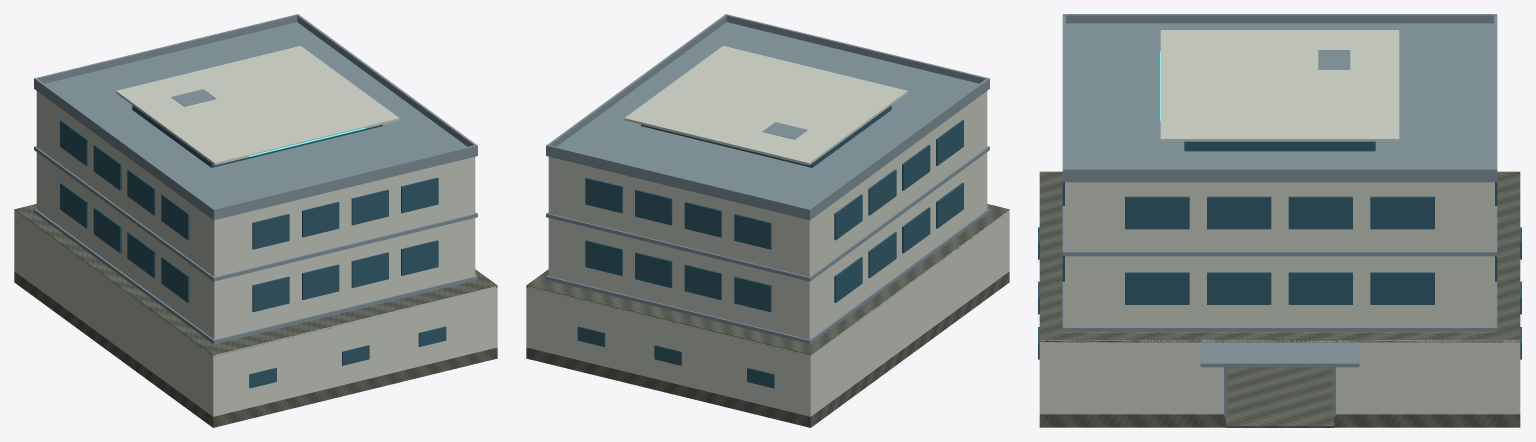
The model's file is Karden_TransitHall.glb.
3 renders of one model, left to right at view 1: azimuth 30°, elevation 25°; view 2: azimuth 150°, elevation 25°; view 3: azimuth 270°, elevation 25°, orthographic. The views are drawn at different scales.
Parts seen in each view (by area): view 1: Karden_TransitHall_Roof, Karden_TransitHall_GroundShell, Karden_TransitHall_CivicLantern, Karden_TransitHall_Upper1_Shell_F1, Karden_TransitHall_Upper1_Shell_F2, Karden_TransitHall_TerraceDeck_1, Karden_TransitHall_Foundation, Karden_TransitHall_Upper1_SideGlazing_F1, Karden_TransitHall_Upper1_SideGlazing_F2, Karden_TransitHall_Upper1_EndGlazing_F1, Karden_TransitHall_Upper1_EndGlazing_F2, Karden_TransitHall_Upper1_SlabBand_F2 (+3 smaller); view 2: Karden_TransitHall_Roof, Karden_TransitHall_GroundShell, Karden_TransitHall_CivicLantern, Karden_TransitHall_Upper1_Shell_F1, Karden_TransitHall_Upper1_Shell_F2, Karden_TransitHall_TerraceDeck_1, Karden_TransitHall_Foundation, Karden_TransitHall_Upper1_SideGlazing_F1, Karden_TransitHall_Upper1_SideGlazing_F2, Karden_TransitHall_Upper1_EndGlazing_F1, Karden_TransitHall_Upper1_EndGlazing_F2, Karden_TransitHall_Upper1_SlabBand_F2 (+3 smaller); view 3: Karden_TransitHall_Roof, Karden_TransitHall_CivicLantern, Karden_TransitHall_GroundShell, Karden_TransitHall_Upper1_Shell_F2, Karden_TransitHall_Upper1_Shell_F1, Karden_TransitHall_TerraceDeck_1, Karden_TransitHall_Foundation, Karden_TransitHall_Upper1_EndGlazing_F2, Karden_TransitHall_Upper1_EndGlazing_F1, Karden_TransitHall_PortalFixture, Karden_TransitHall_Upper1_SlabBand_F2, Karden_TransitHall_Upper1_SlabBand_F1 (+2 smaller).
Boxes of the visible parts, bbox=[...] form: Karden_TransitHall_Roof: bbox=[34, 14, 477, 220]; Karden_TransitHall_GroundShell: bbox=[14, 210, 497, 416]; Karden_TransitHall_CivicLantern: bbox=[116, 46, 399, 167]; Karden_TransitHall_Upper1_Shell_F1: bbox=[36, 152, 475, 341]; Karden_TransitHall_Upper1_Shell_F2: bbox=[36, 91, 475, 281]; Karden_TransitHall_TerraceDeck_1: bbox=[14, 204, 497, 356]; Karden_TransitHall_Foundation: bbox=[14, 271, 497, 427]; Karden_TransitHall_Upper1_SideGlazing_F1: bbox=[252, 240, 438, 312]; Karden_TransitHall_Upper1_SideGlazing_F2: bbox=[252, 177, 438, 249]; Karden_TransitHall_Upper1_EndGlazing_F1: bbox=[60, 182, 189, 302]; Karden_TransitHall_Upper1_EndGlazing_F2: bbox=[60, 120, 189, 240]; Karden_TransitHall_Upper1_SlabBand_F2: bbox=[34, 146, 477, 281]; Karden_TransitHall_Roof: bbox=[546, 14, 989, 220]; Karden_TransitHall_GroundShell: bbox=[526, 210, 1009, 416]; Karden_TransitHall_CivicLantern: bbox=[624, 46, 907, 167]; Karden_TransitHall_Upper1_Shell_F1: bbox=[548, 152, 987, 341]; Karden_TransitHall_Upper1_Shell_F2: bbox=[548, 91, 987, 281]; Karden_TransitHall_TerraceDeck_1: bbox=[526, 204, 1009, 355]; Karden_TransitHall_Foundation: bbox=[526, 271, 1009, 427]; Karden_TransitHall_Upper1_SideGlazing_F1: bbox=[585, 240, 771, 312]; Karden_TransitHall_Upper1_SideGlazing_F2: bbox=[585, 177, 771, 249]; Karden_TransitHall_Upper1_EndGlazing_F1: bbox=[834, 182, 963, 302]; Karden_TransitHall_Upper1_EndGlazing_F2: bbox=[834, 120, 963, 240]; Karden_TransitHall_Upper1_SlabBand_F2: bbox=[546, 146, 989, 281]; Karden_TransitHall_Roof: bbox=[1062, 14, 1497, 182]; Karden_TransitHall_CivicLantern: bbox=[1160, 30, 1399, 151]; Karden_TransitHall_GroundShell: bbox=[1039, 339, 1520, 414]; Karden_TransitHall_Upper1_Shell_F2: bbox=[1065, 182, 1494, 257]; Karden_TransitHall_Upper1_Shell_F1: bbox=[1065, 257, 1494, 332]; Karden_TransitHall_TerraceDeck_1: bbox=[1039, 171, 1520, 342]; Karden_TransitHall_Foundation: bbox=[1039, 367, 1520, 427]; Karden_TransitHall_Upper1_EndGlazing_F2: bbox=[1125, 196, 1434, 229]; Karden_TransitHall_Upper1_EndGlazing_F1: bbox=[1125, 272, 1434, 304]; Karden_TransitHall_PortalFixture: bbox=[1200, 342, 1359, 367]; Karden_TransitHall_Upper1_SlabBand_F2: bbox=[1062, 206, 1497, 256]; Karden_TransitHall_Upper1_SlabBand_F1: bbox=[1062, 281, 1497, 331].
Size of the model in its own units: 21.4 by 13.79 by 23.16.
Materials: 6 (2 with a texture image).
